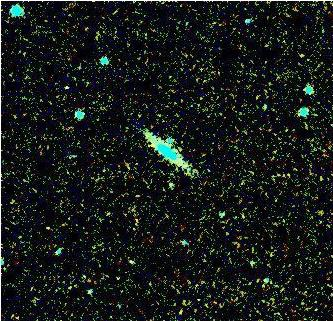star: (50, 78, 80, 108)
